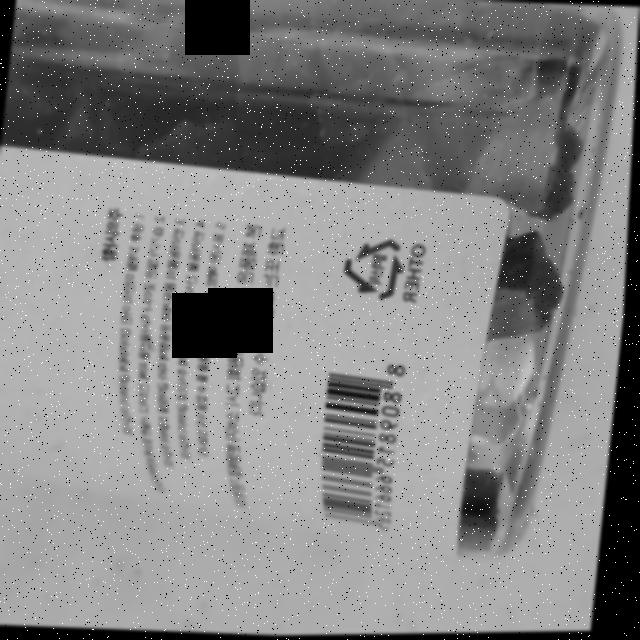Plastic: (342, 232, 411, 303)
